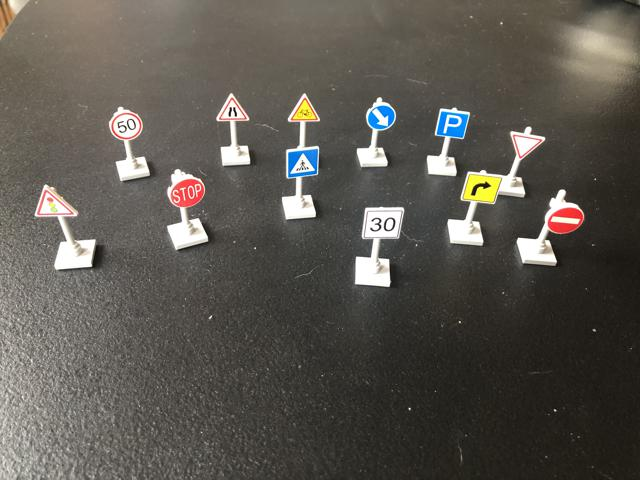fahrtrichtung rechts: (458, 171, 499, 206)
fußgängerüberweg: (288, 148, 322, 178)
lichtzeichenanlage: (32, 185, 78, 219)
parken: (433, 109, 472, 140)
radfahrer: (286, 93, 320, 124)
rechts halten: (366, 102, 398, 131)
stop: (165, 175, 205, 208)
tempolimit 30: (361, 205, 407, 241)
tempolimit 50: (109, 111, 145, 141)
verbot der einfahrt: (542, 201, 585, 236)
verengte fahrbahn: (213, 93, 252, 125)
vorfahrt gewähren: (507, 130, 547, 160)
